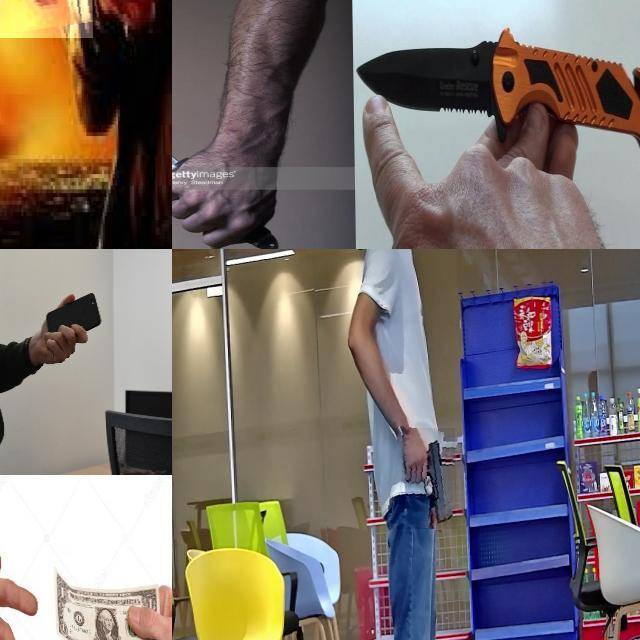-: (350, 15, 543, 151), (172, 48, 252, 235), (456, 0, 539, 105), (172, 0, 286, 61)
gun-knife-thesis - v11 Yolov5 augmented: (0, 0, 77, 159), (0, 0, 91, 101), (388, 428, 456, 529)
